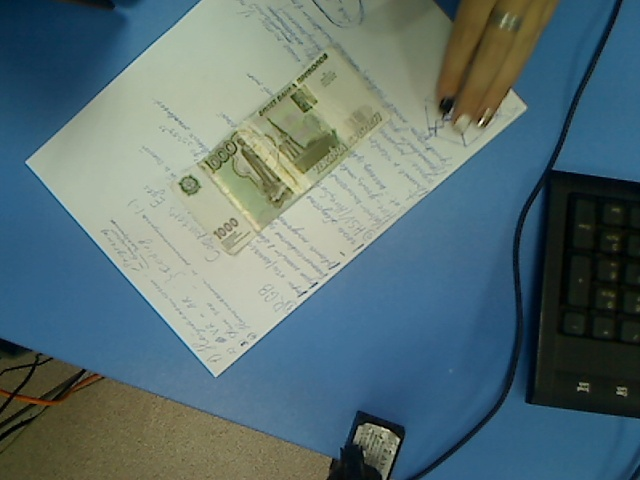banknotes: (168, 43, 394, 257)
